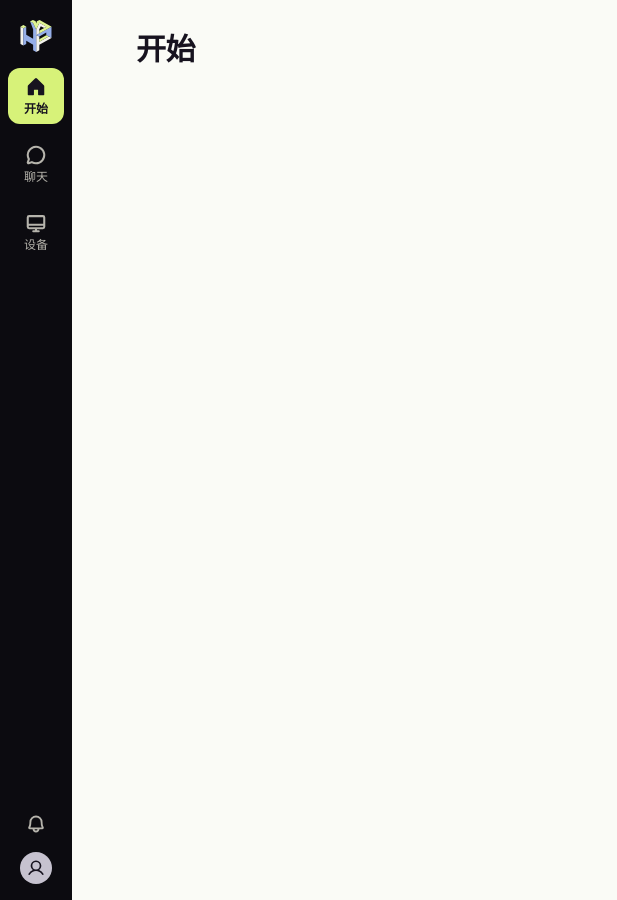
it: settings convergence under fixture capabilities › drives the settings account states through the success account fixture
Click the button named "我的账号与 Agent 设置菜单".
click(36, 868)  # box 16,848 -> 56,888
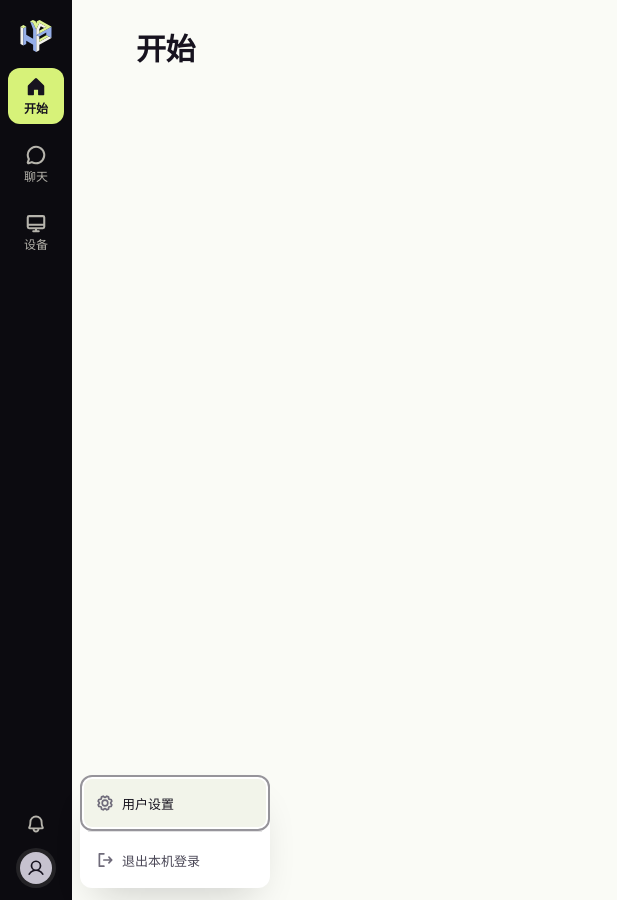
Click the menu item "用户设置".
click(175, 803)  # box 84,779 -> 266,827
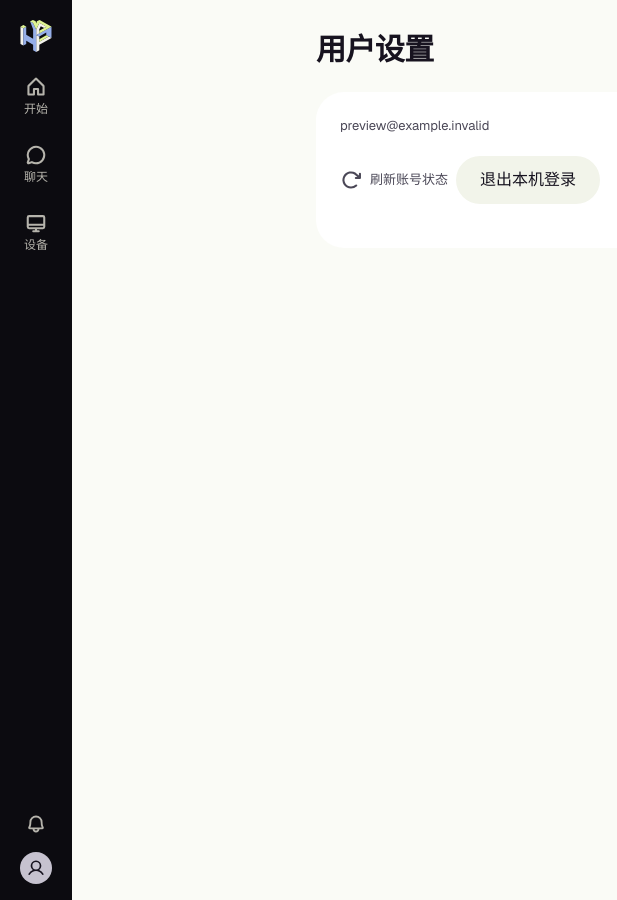
Now the text "preview@example.invalid" is shown, box 340,117 -> 489,134
